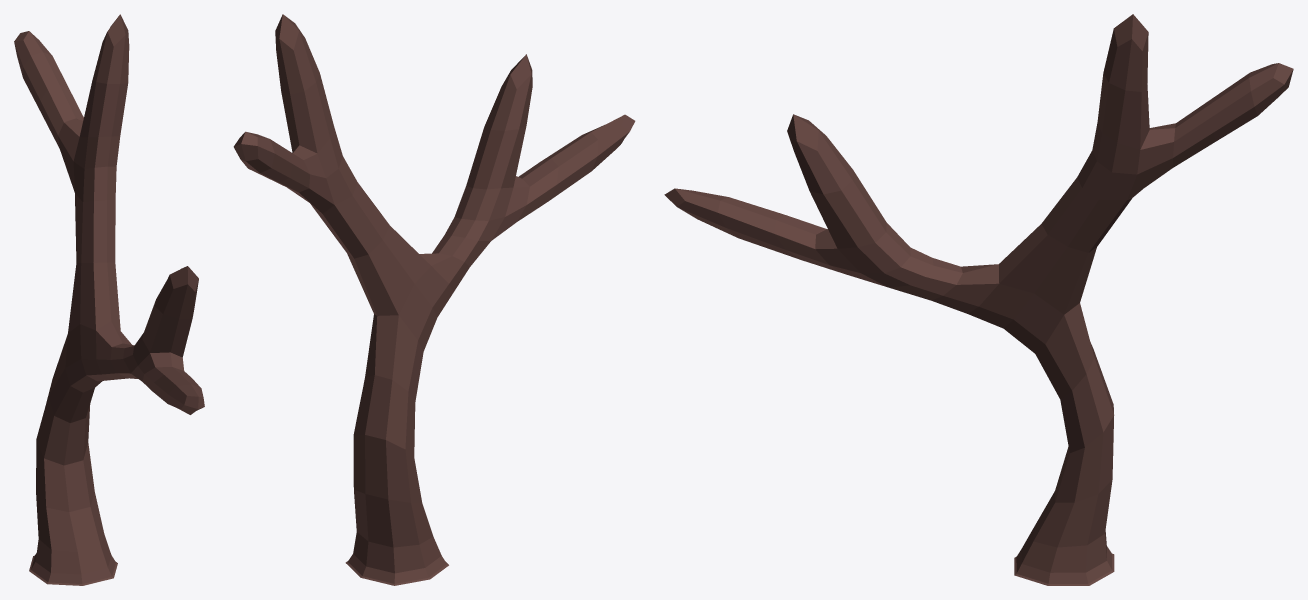
The model's file is Willow_Dead_5.gltf.
3 views of the same model, side by side, from view 1: azimuth 30°, elevation 25°; view 2: azimuth 150°, elevation 25°; view 3: azimuth 270°, elevation 25° (orthographic). The views are drawn at different scales.
Visible parts, largest first — view 1: Willow_Dead_5; view 2: Willow_Dead_5; view 3: Willow_Dead_5.
Boxes of the visible parts, bbox=[...] form: Willow_Dead_5: bbox=[14, 14, 204, 585]; Willow_Dead_5: bbox=[233, 14, 635, 585]; Willow_Dead_5: bbox=[664, 14, 1293, 585].
Size of the model in its own units: 0.567 by 2.04 by 1.95.
